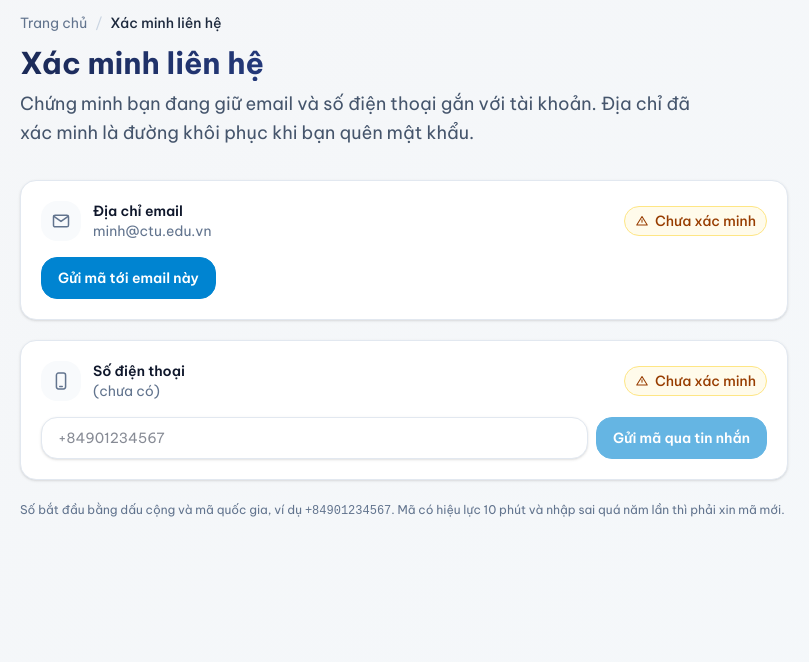
Test: Chỉ một luồng mở tại một thời điểm › nút Huỷ đóng luồng đang mở lại
This screenshot has width=809, height=662.
Click the button "Gửi mã tới email này" at (128, 278), box x1=41 y1=256 x2=216 y2=298
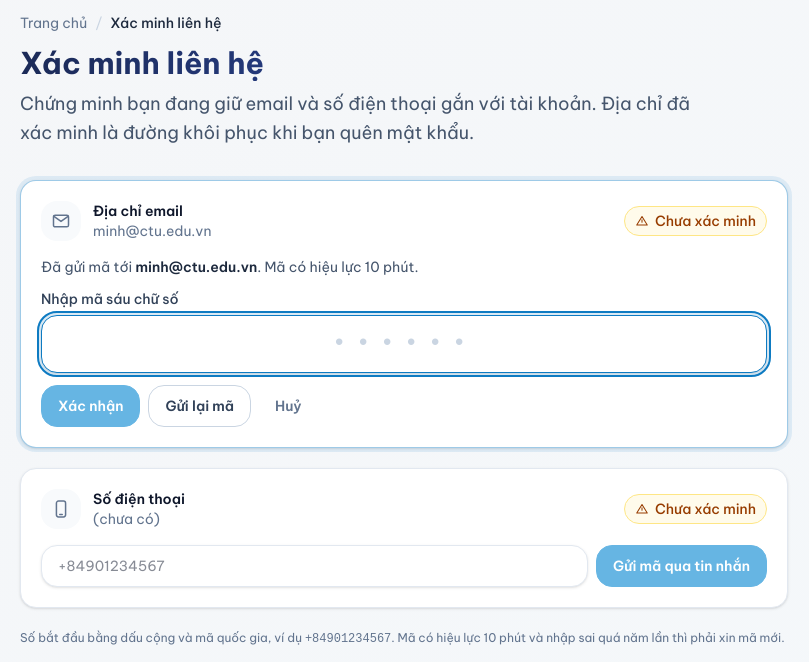
Expected: the field labelled "Nhập mã sáu chữ số" is shown, x1=41 y1=314 x2=767 y2=372
Click the button "Huỷ" at (288, 406), box x1=259 y1=384 x2=318 y2=426
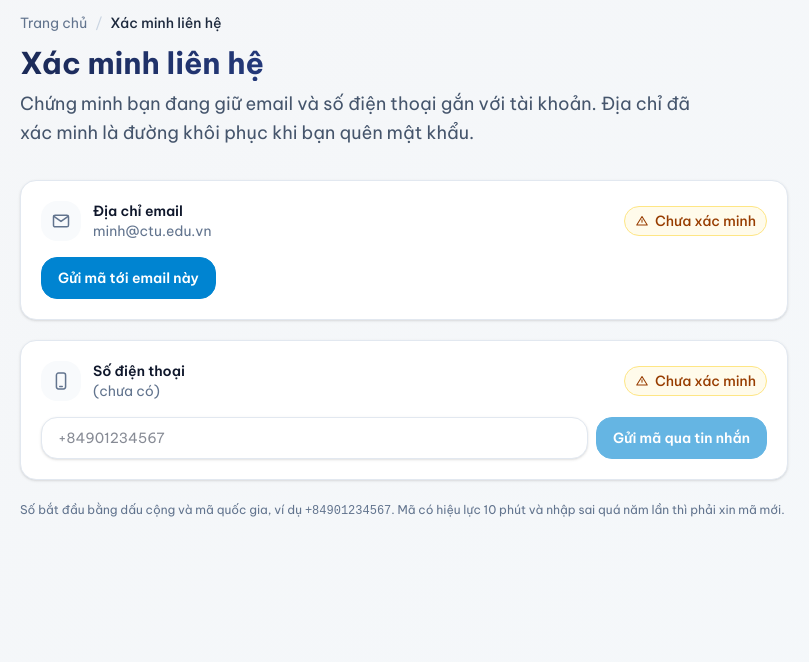
Expected: the label labelled "Nhập mã sáu chữ số" is gone
